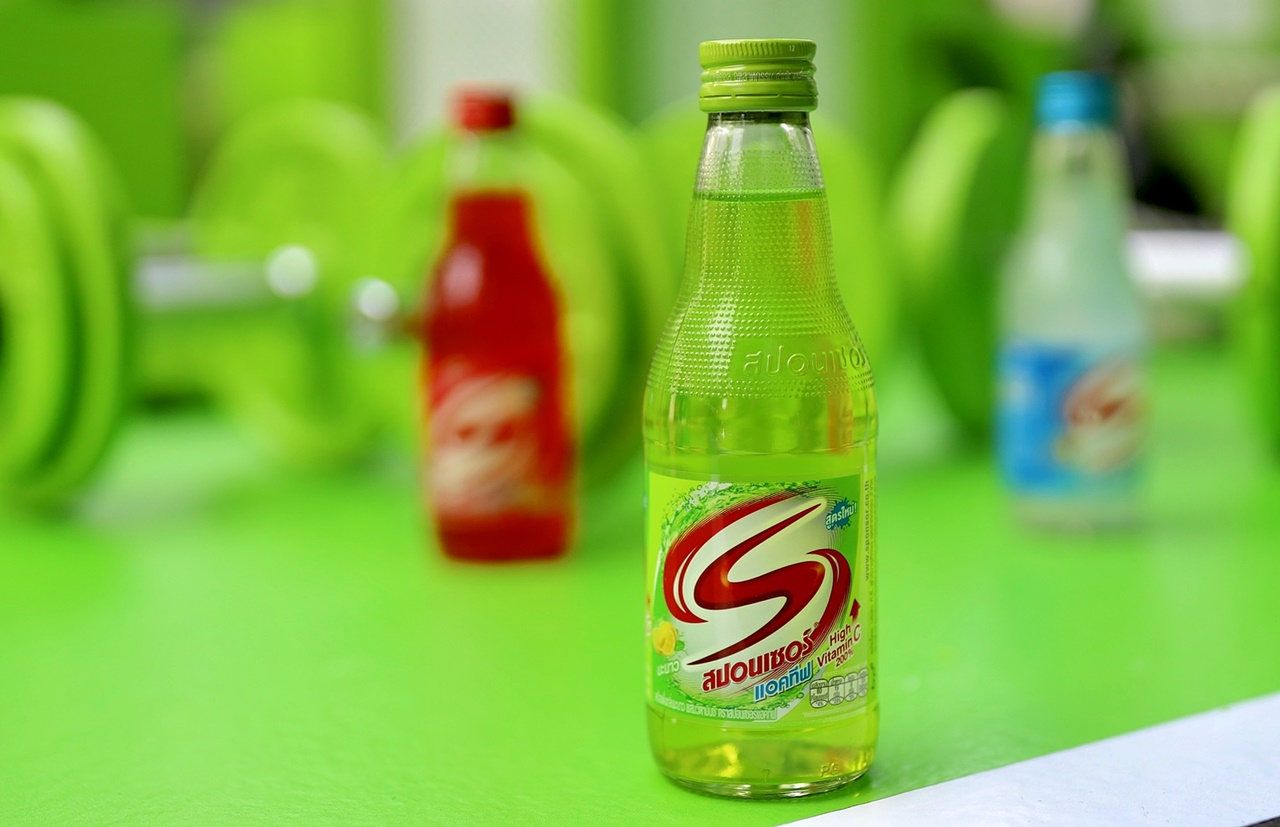glass_bottle: (623, 23, 903, 813)
